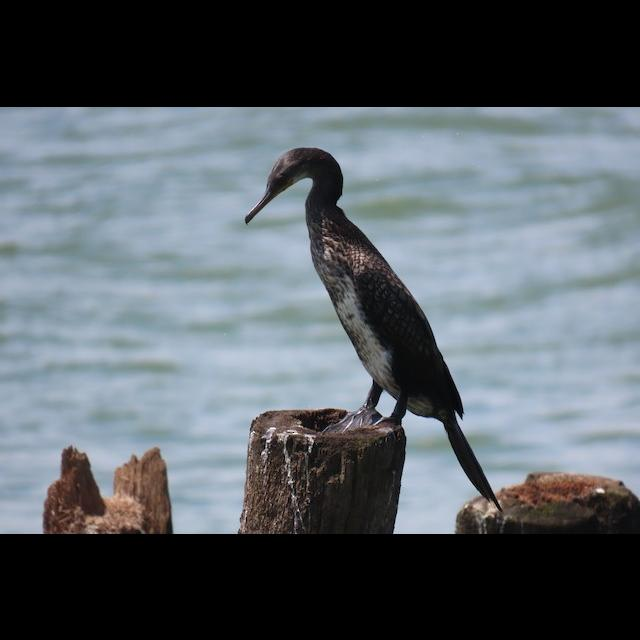cormorant: (242, 140, 510, 518)
